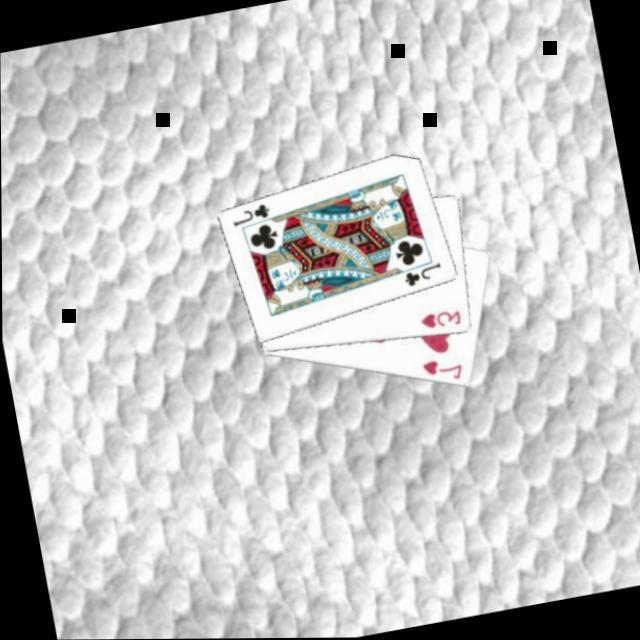3H: (413, 306, 462, 336)
7H: (416, 353, 464, 389)
JC: (398, 261, 445, 292), (225, 201, 271, 231)
